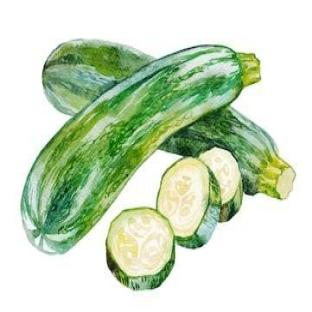Zucchini: (21, 46, 248, 253), (160, 107, 294, 199), (43, 40, 152, 115), (157, 158, 221, 248), (107, 208, 174, 290), (200, 148, 242, 221)
